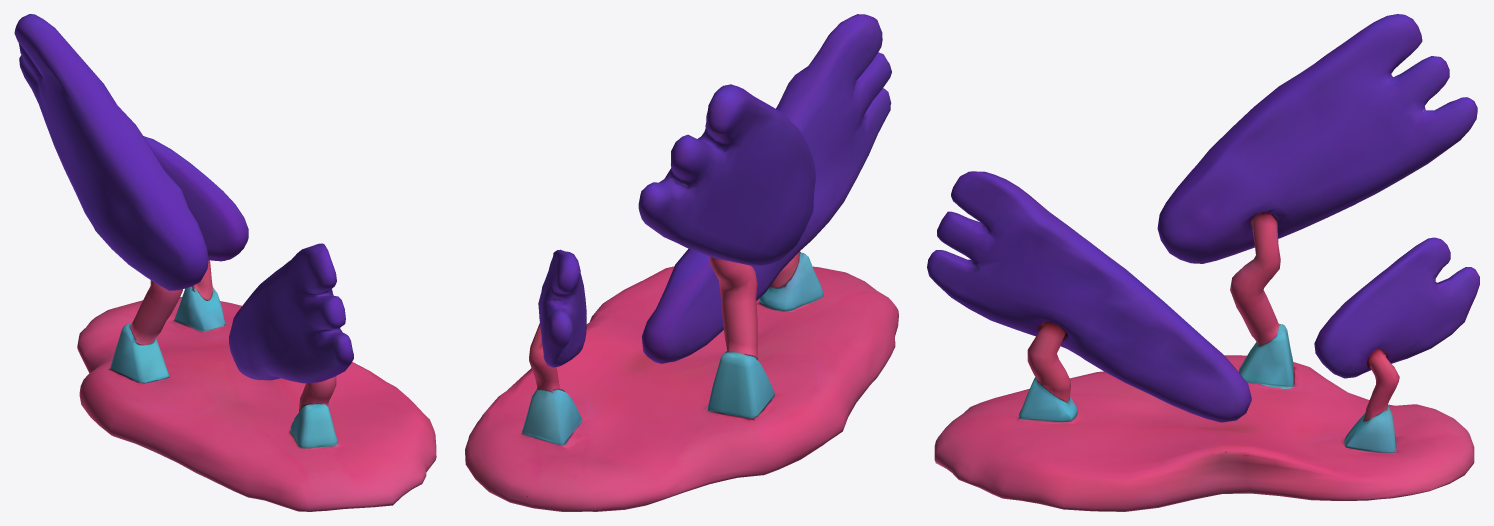
The model's file is 6dd2d661-d343-40ca-adf3-5e3b4e04c3f0.glb.
The picture shows the model from 3 angles, left to right: view 1: azimuth 30°, elevation 25°; view 2: azimuth 150°, elevation 25°; view 3: azimuth 270°, elevation 25°; orthographic projection. The views are drawn at different scales.
Parts seen in each view (by area): view 1: tripo_node_534e09f7-f607-442f-9b31-0a7fbf078be9; view 2: tripo_node_534e09f7-f607-442f-9b31-0a7fbf078be9; view 3: tripo_node_534e09f7-f607-442f-9b31-0a7fbf078be9.
Part boxes in pixels (x1,y1,x2,y2): tripo_node_534e09f7-f607-442f-9b31-0a7fbf078be9: (14,14,436,511); tripo_node_534e09f7-f607-442f-9b31-0a7fbf078be9: (465,14,898,511); tripo_node_534e09f7-f607-442f-9b31-0a7fbf078be9: (927,14,1479,511).
Size of the model in its own units: 0.5538 by 0.7554 by 1.
1 material, 1 textured.
